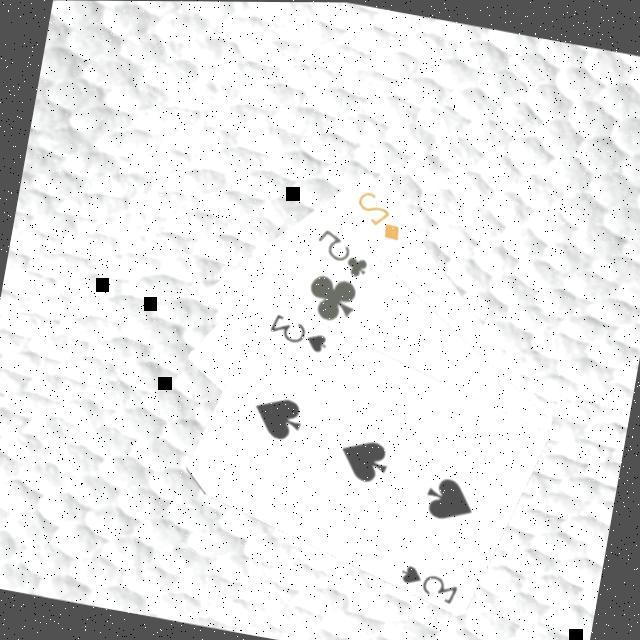2D: (346, 183, 408, 242)
3S: (261, 306, 331, 354), (392, 558, 461, 606)
5C: (306, 221, 374, 281)
